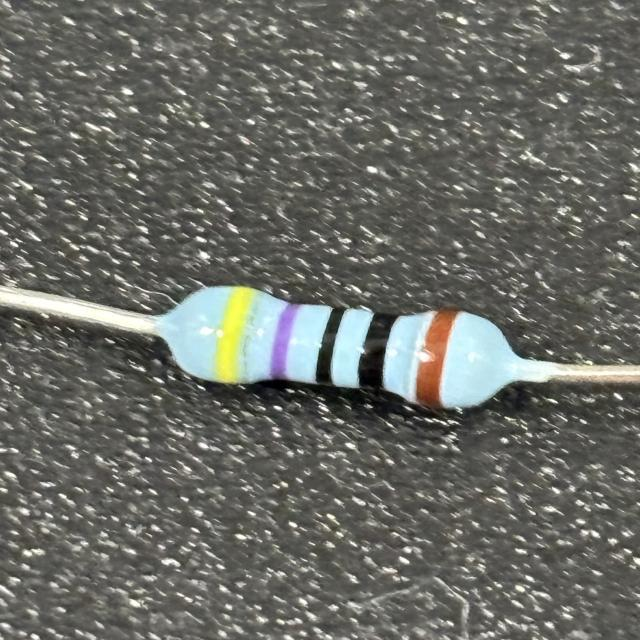resistor: (185, 282, 488, 410)
